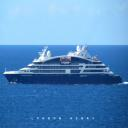cruises: (4, 46, 124, 89)
